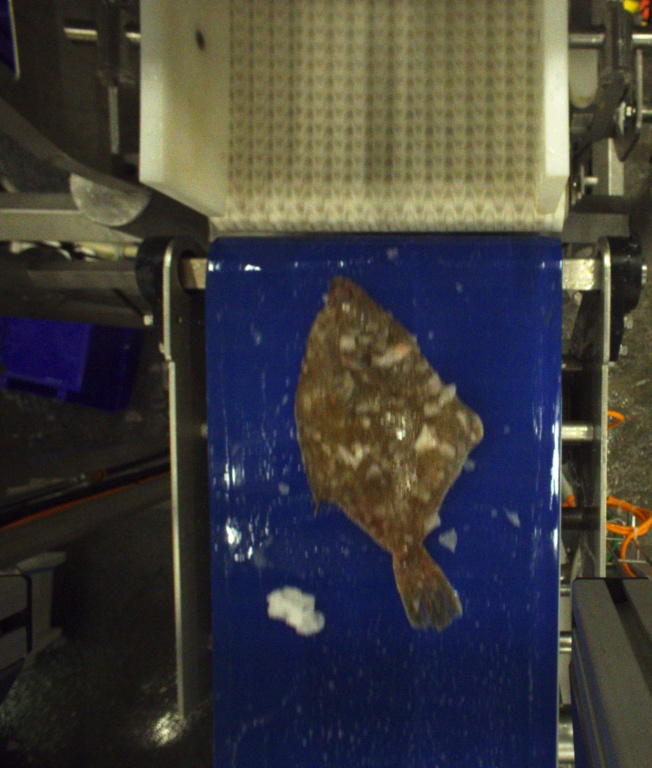PLE: (294, 274, 486, 632)
